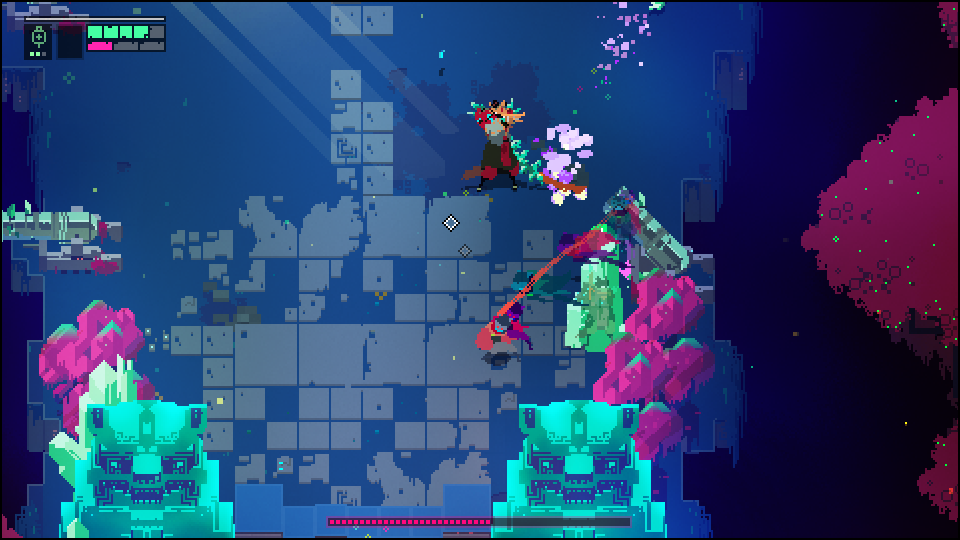hanged_man: (462, 92, 562, 196)
player: (476, 314, 514, 368)
